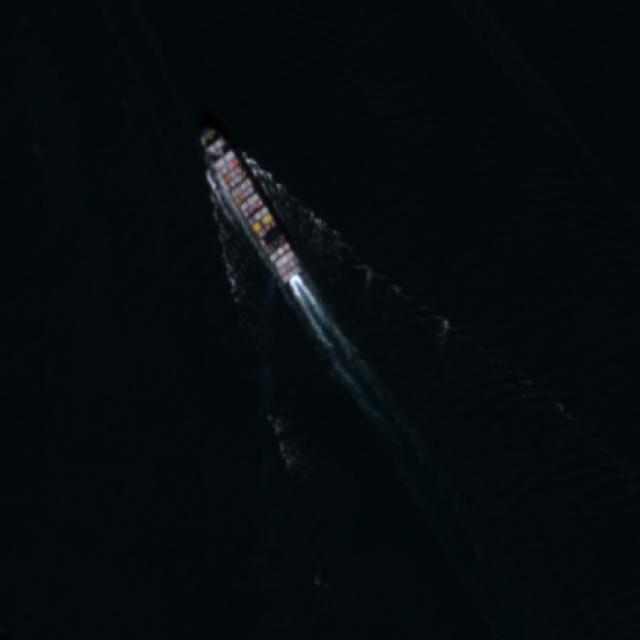Container Ship: (189, 122, 307, 287)
